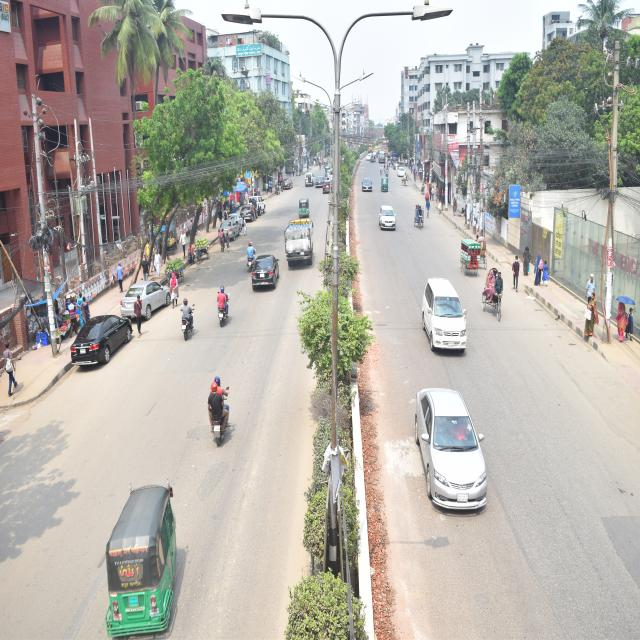car: (408, 378, 502, 520), (68, 309, 132, 378), (120, 271, 175, 318), (249, 251, 281, 291), (377, 202, 400, 239), (358, 176, 376, 194)
microbus: (416, 271, 469, 354)
motorbike: (205, 373, 235, 449), (216, 278, 231, 335), (180, 294, 196, 344), (248, 239, 254, 272)
truck: (283, 213, 314, 267)
